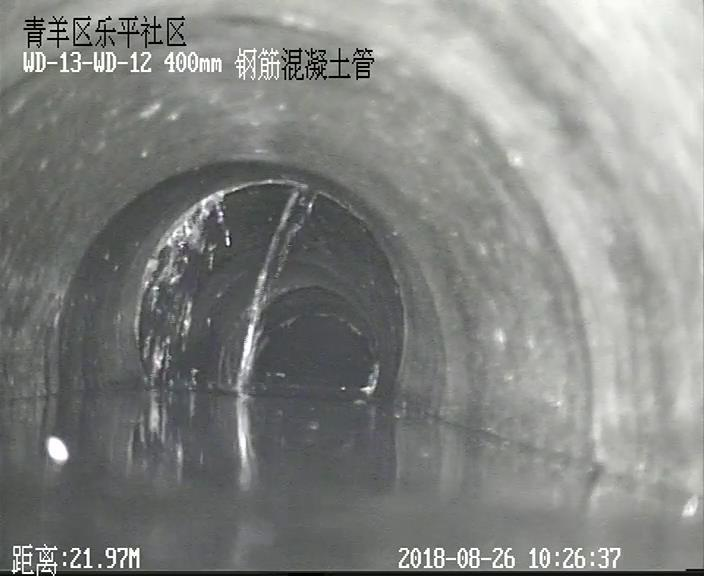SL: (126, 175, 321, 407)
